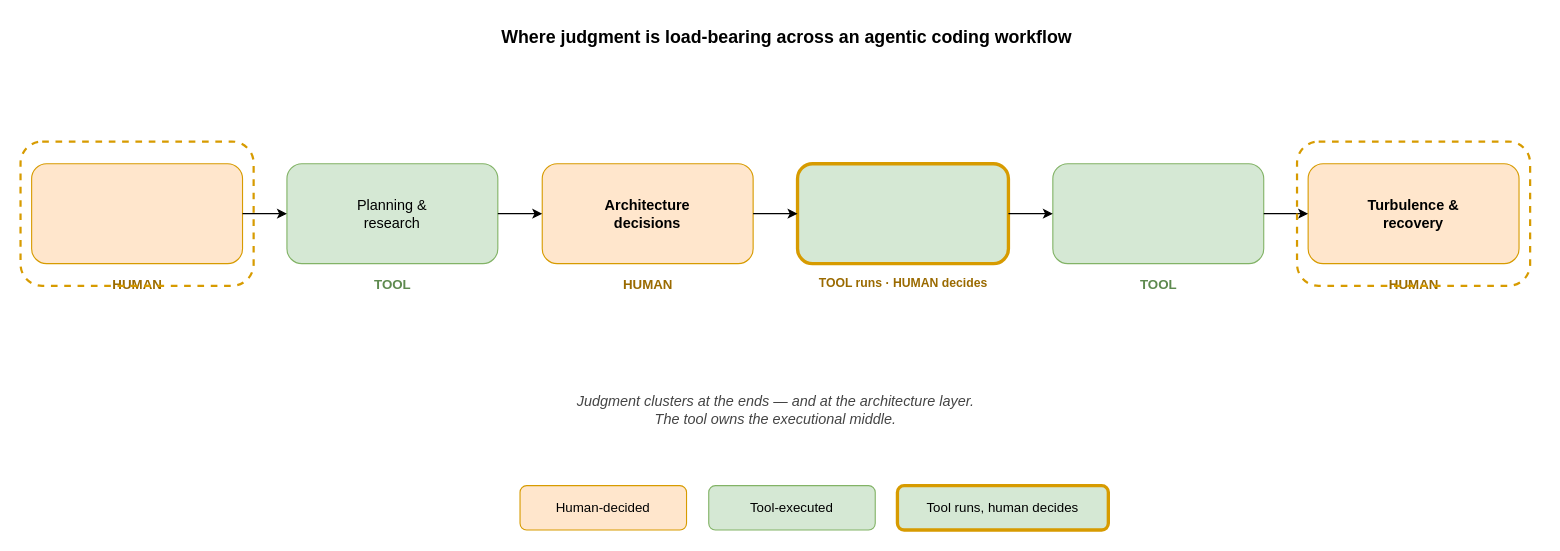
Some shapes in this 1560 by 551 pixel diagram are drawn without their labels. Here are the shapes that lost their labels. From the top down, the centre of each, then its label:
(137,213): Context engineering
(902,213): Govern the plan (adversarial review)
(1158,213): Build & execute
